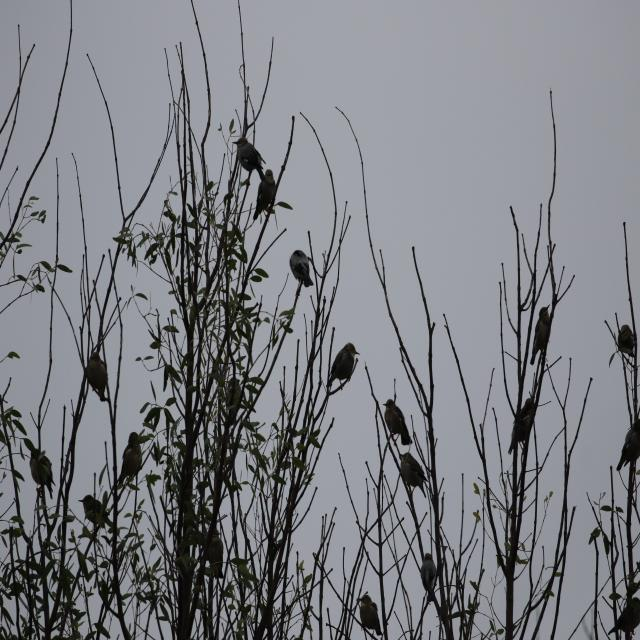bird: (326, 342, 360, 390), (232, 138, 266, 182), (508, 398, 534, 454), (382, 399, 412, 445), (398, 453, 428, 498), (608, 597, 640, 639), (616, 419, 640, 472), (29, 448, 53, 499), (530, 304, 550, 365), (119, 432, 142, 483), (85, 352, 108, 401), (254, 170, 276, 220), (357, 595, 382, 639), (78, 495, 109, 528), (290, 250, 313, 286), (224, 378, 241, 422), (420, 552, 436, 598), (209, 530, 223, 580), (618, 325, 635, 364)
